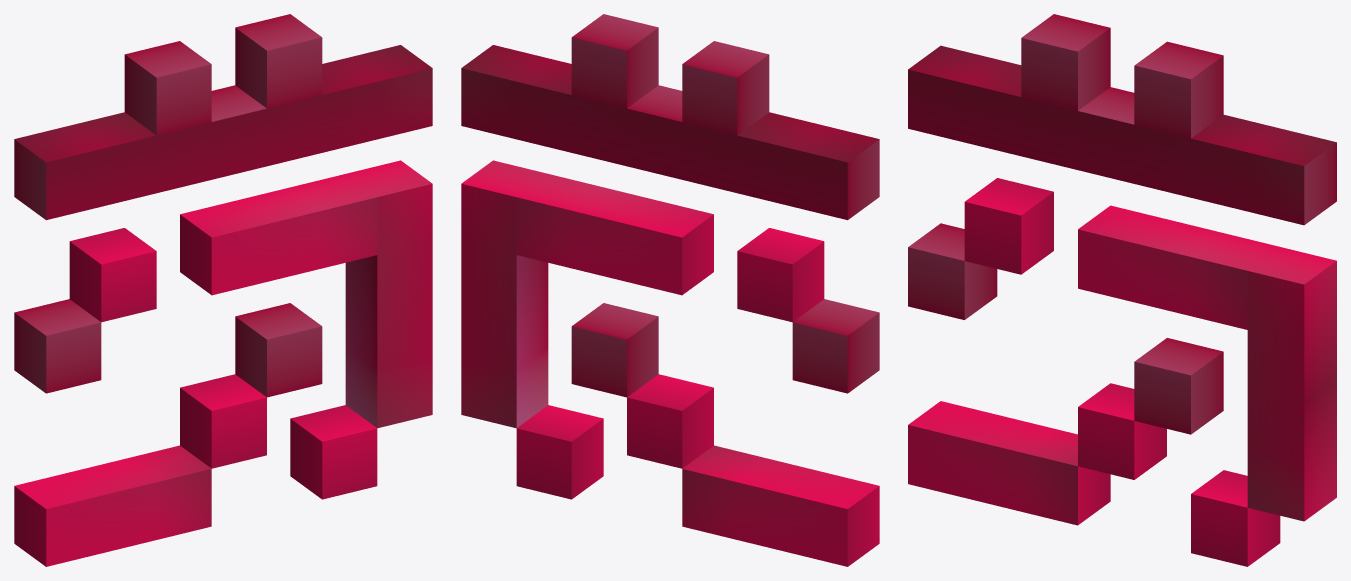
File: BillboardModule_ChineseSymbol_T_00.fbx
3 renders of one model, left to right at view 1: azimuth 30°, elevation 25°; view 2: azimuth 150°, elevation 25°; view 3: azimuth 330°, elevation 25°, orthographic. The views are drawn at different scales.
Parts seen in each view (by area): view 1: BillboardModule_ChineseSymbol_T_00; view 2: BillboardModule_ChineseSymbol_T_00; view 3: BillboardModule_ChineseSymbol_T_00.
Boxes of the visible parts, box(x1,y1,x2,y2) form: BillboardModule_ChineseSymbol_T_00: box(14, 14, 432, 566); BillboardModule_ChineseSymbol_T_00: box(461, 14, 879, 566); BillboardModule_ChineseSymbol_T_00: box(908, 14, 1336, 566).
Size of the model in its own units: 35 by 40 by 5.
